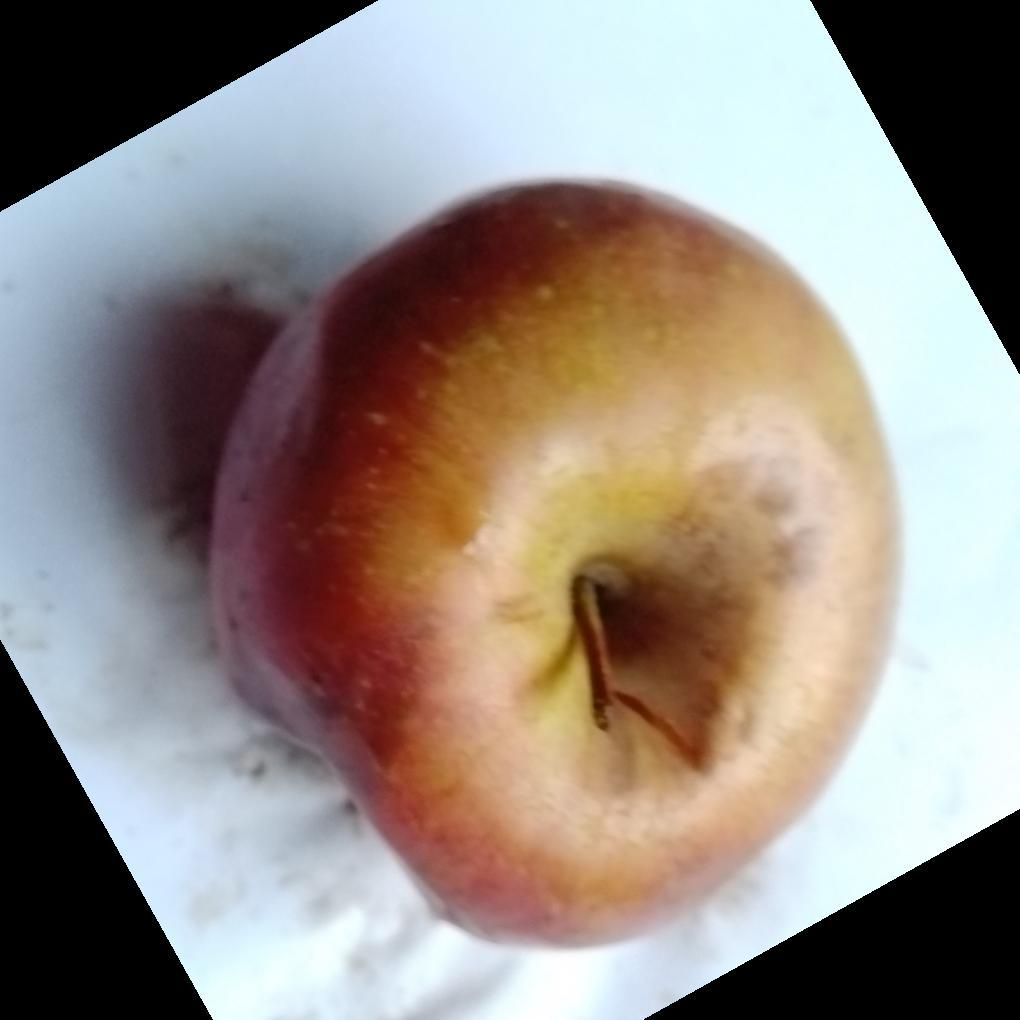FreshOrange: (206, 177, 905, 956)
